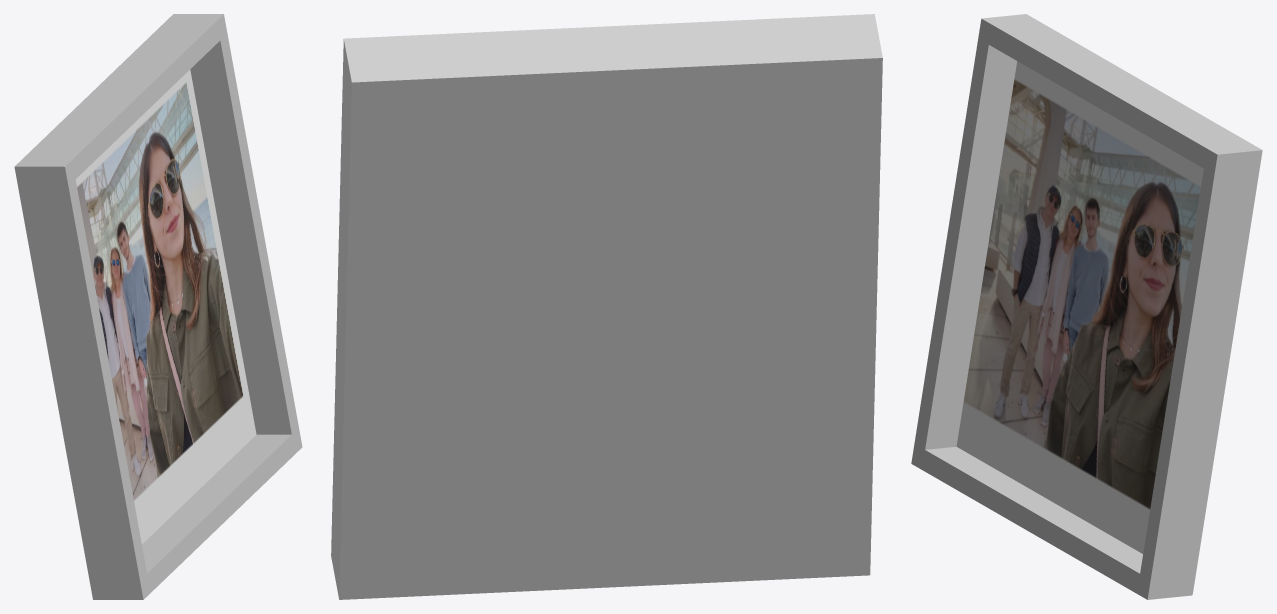
The model's file is Cuadro familia.glb.
3 renders of one model, left to right at view 1: azimuth 30°, elevation 25°; view 2: azimuth 150°, elevation 25°; view 3: azimuth 270°, elevation 25°, orthographic. The views are drawn at different scales.
Parts seen in each view (by area): view 1: Balda Centro Izquierda_Cuadro familia; view 2: Balda Centro Izquierda_Cuadro familia; view 3: Balda Centro Izquierda_Cuadro familia.
Part boxes in pixels (bbox=[...]): Balda Centro Izquierda_Cuadro familia: bbox=[14, 14, 302, 599]; Balda Centro Izquierda_Cuadro familia: bbox=[331, 14, 882, 599]; Balda Centro Izquierda_Cuadro familia: bbox=[911, 14, 1262, 599].
Size of the model in its own units: 0.1934 by 0.2272 by 0.1671.
Materials: 2 (1 with a texture image).
